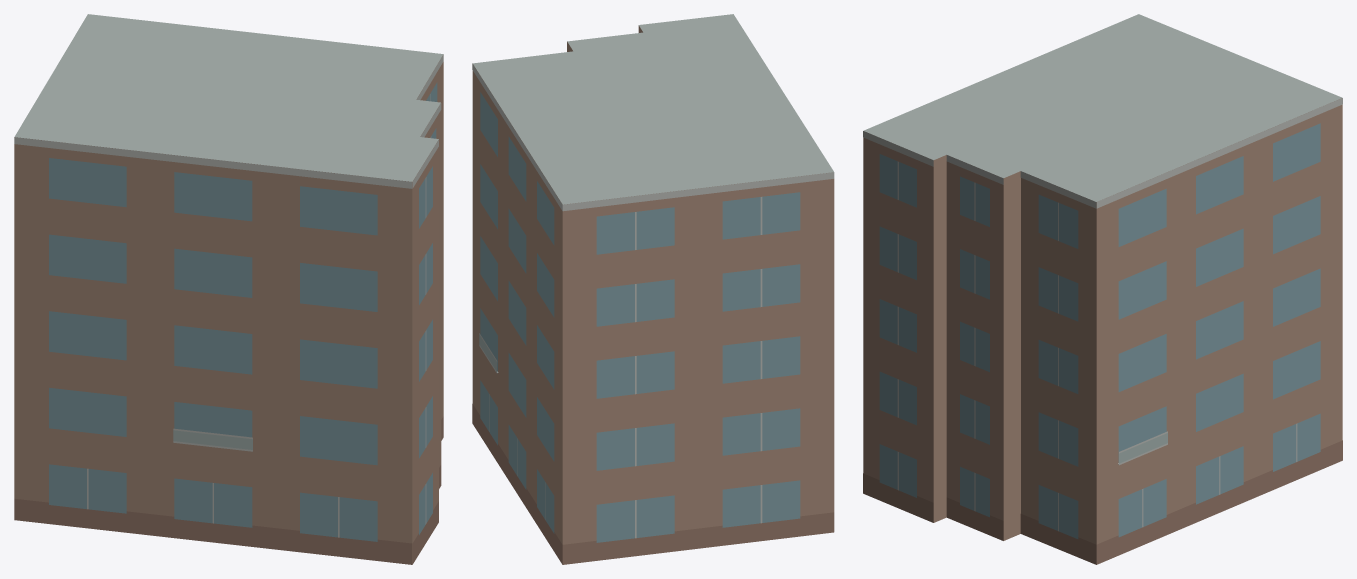
File: survey-upis-32710186.glb
3 views of the same model, side by side, from view 1: azimuth 30°, elevation 25°; view 2: azimuth 150°, elevation 25°; view 3: azimuth 270°, elevation 25° (orthographic). The views are drawn at different scales.
Visible parts, largest first — view 1: survey-upis-32710186.tmp; view 2: survey-upis-32710186.tmp; view 3: survey-upis-32710186.tmp.
Part boxes in pixels (<box>): survey-upis-32710186.tmp: <box>14,14,443,564</box>; survey-upis-32710186.tmp: <box>472,14,834,564</box>; survey-upis-32710186.tmp: <box>863,14,1342,564</box>.
Size of the model in its own units: 14.74 by 13.25 by 15.88.
